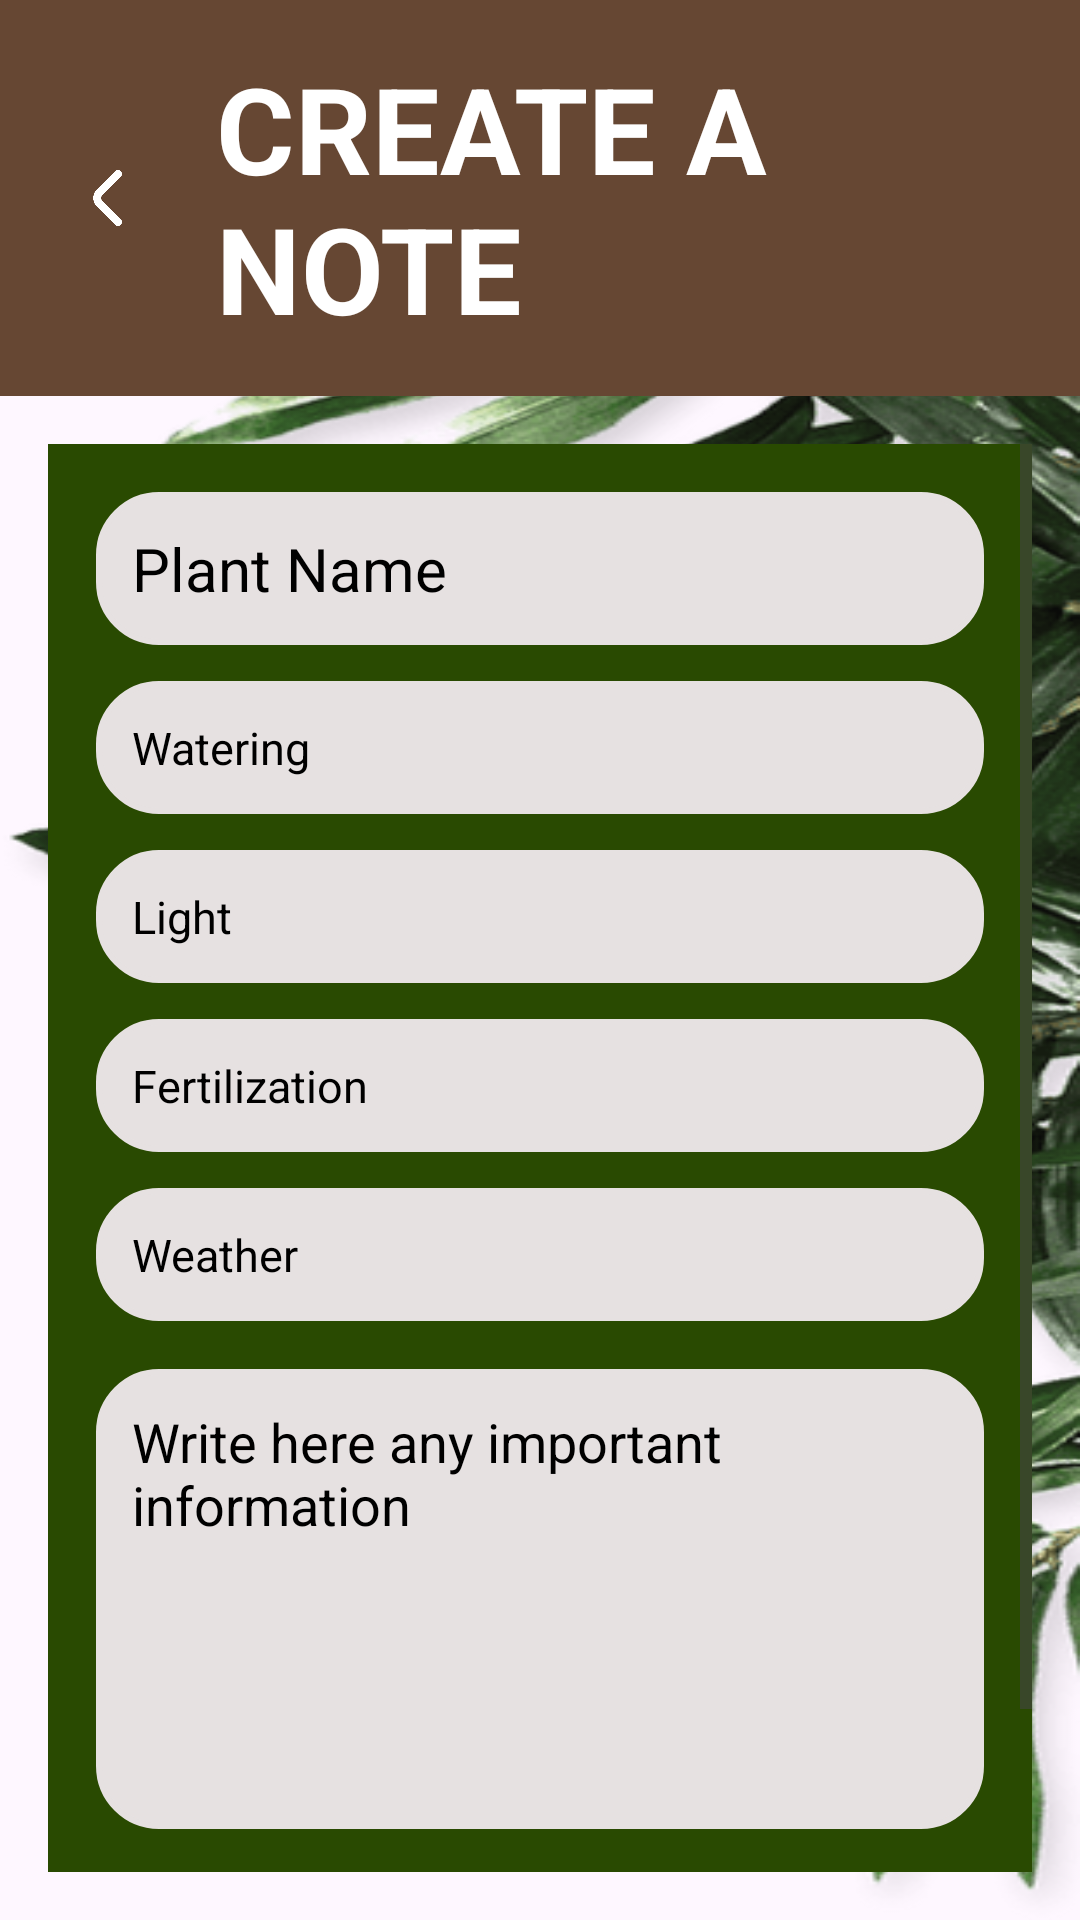

Icon bounding boxes for this 1080×1920 phone screenshot, format [x1, y1, x2, y2]:
Back: [93, 170, 122, 226]
